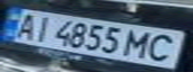4: (48, 17, 75, 47)
5: (100, 25, 127, 56), (84, 21, 106, 53)
8: (66, 20, 87, 51)
A: (6, 10, 42, 39)
C: (142, 32, 190, 63)
I: (27, 14, 57, 43)
M: (121, 28, 160, 60)
